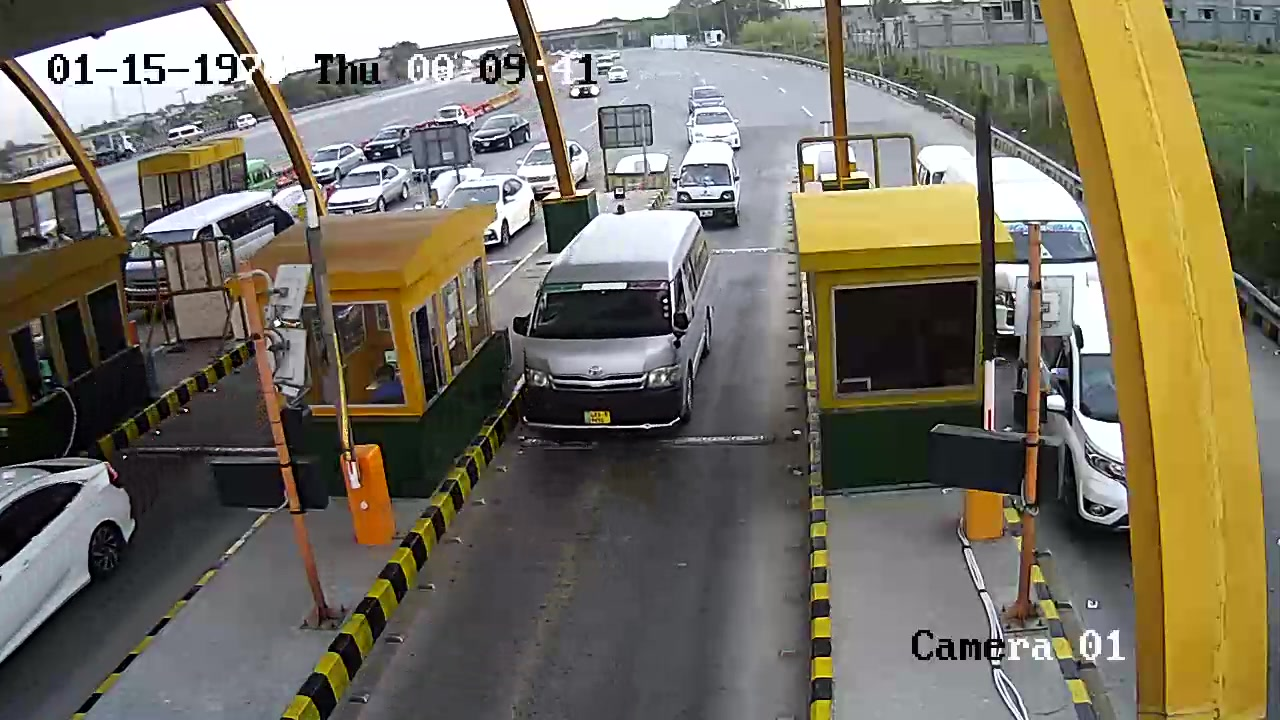F3: (516, 197, 717, 457)
